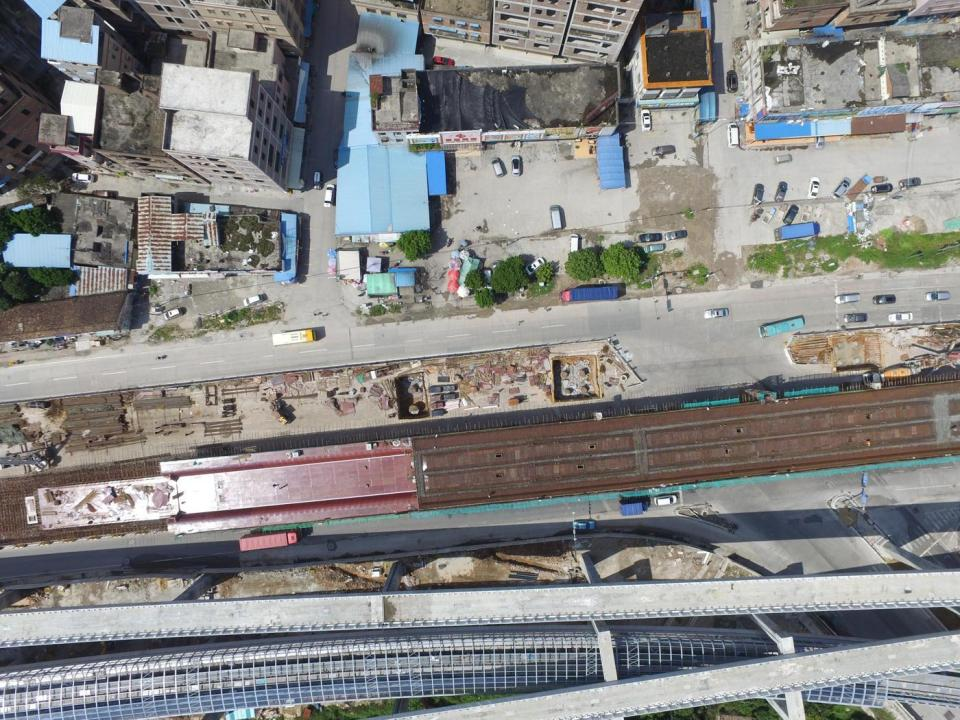bus: (758, 318, 804, 338), (272, 328, 316, 346)
car: (831, 177, 851, 199), (525, 257, 545, 276), (784, 205, 800, 226), (664, 230, 688, 242), (812, 128, 825, 150), (163, 307, 183, 321), (640, 109, 652, 132), (703, 308, 728, 319), (834, 293, 859, 304), (334, 150, 346, 172), (654, 494, 678, 505), (843, 312, 867, 323), (808, 176, 819, 199), (243, 295, 264, 307), (775, 181, 787, 202), (638, 232, 660, 243), (899, 176, 918, 188), (925, 291, 950, 300), (754, 183, 764, 205), (871, 183, 893, 193), (572, 521, 596, 530), (888, 312, 912, 321), (872, 295, 896, 304), (91, 190, 114, 199), (71, 174, 95, 182), (511, 155, 520, 176), (314, 172, 322, 189), (492, 261, 500, 277)
truck: (240, 528, 300, 552), (559, 287, 619, 301), (775, 220, 820, 238), (847, 173, 873, 201), (620, 499, 649, 516)
van: (652, 144, 676, 158), (550, 205, 562, 230), (728, 123, 738, 149), (726, 70, 737, 93), (491, 157, 503, 177), (324, 184, 334, 208), (569, 233, 579, 256), (774, 153, 793, 164), (643, 244, 665, 252)
